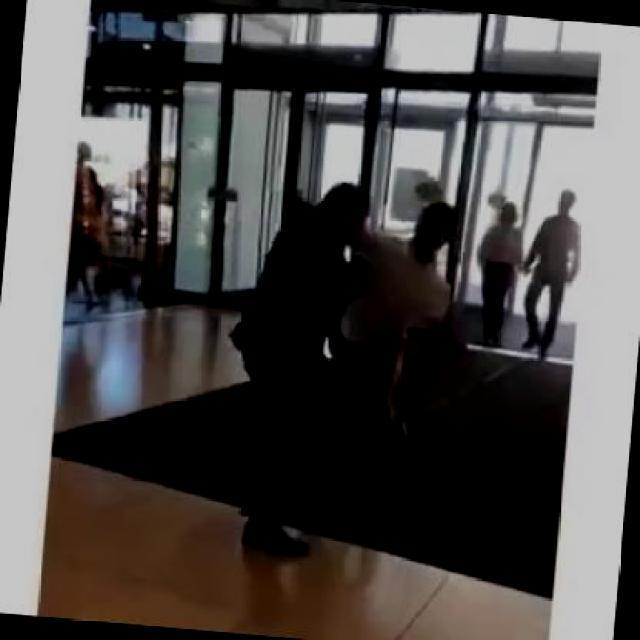fight: (218, 172, 456, 576)
